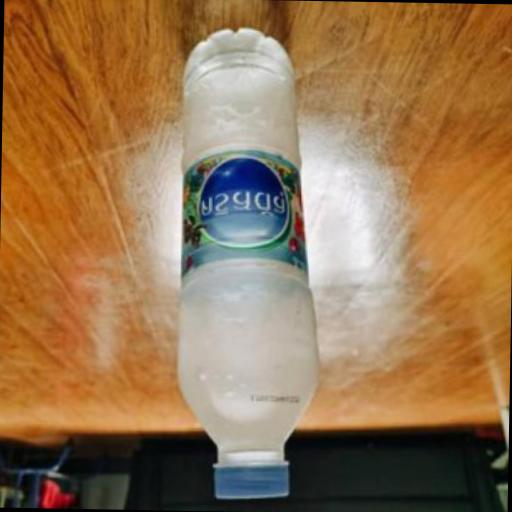Coca: (162, 15, 332, 507)
